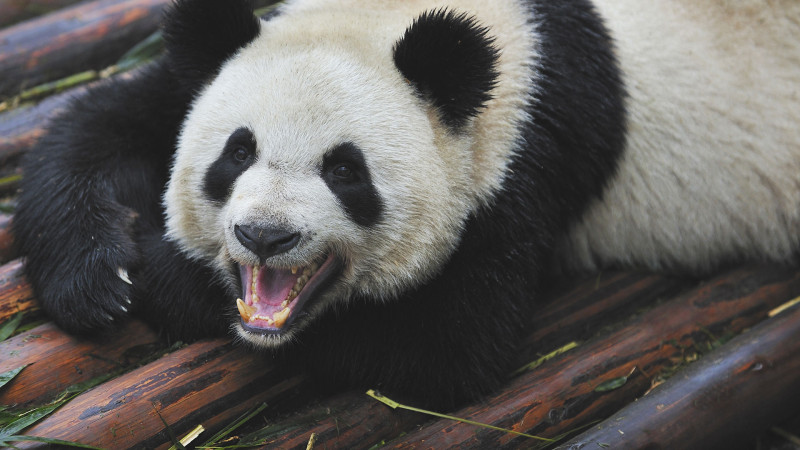panda: (144, 9, 785, 443)
